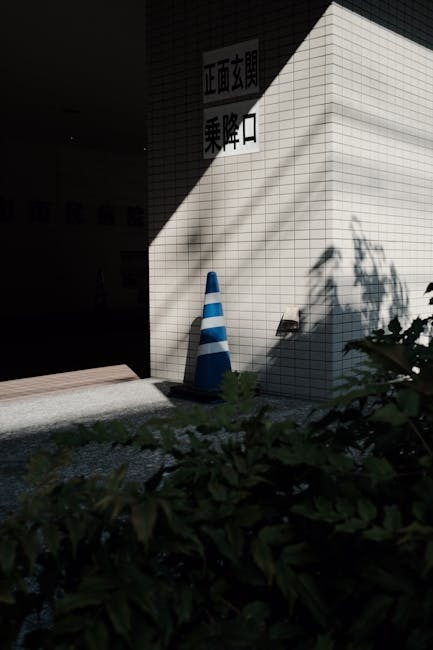traffic_cone: (168, 270, 234, 403), (192, 271, 233, 399)
